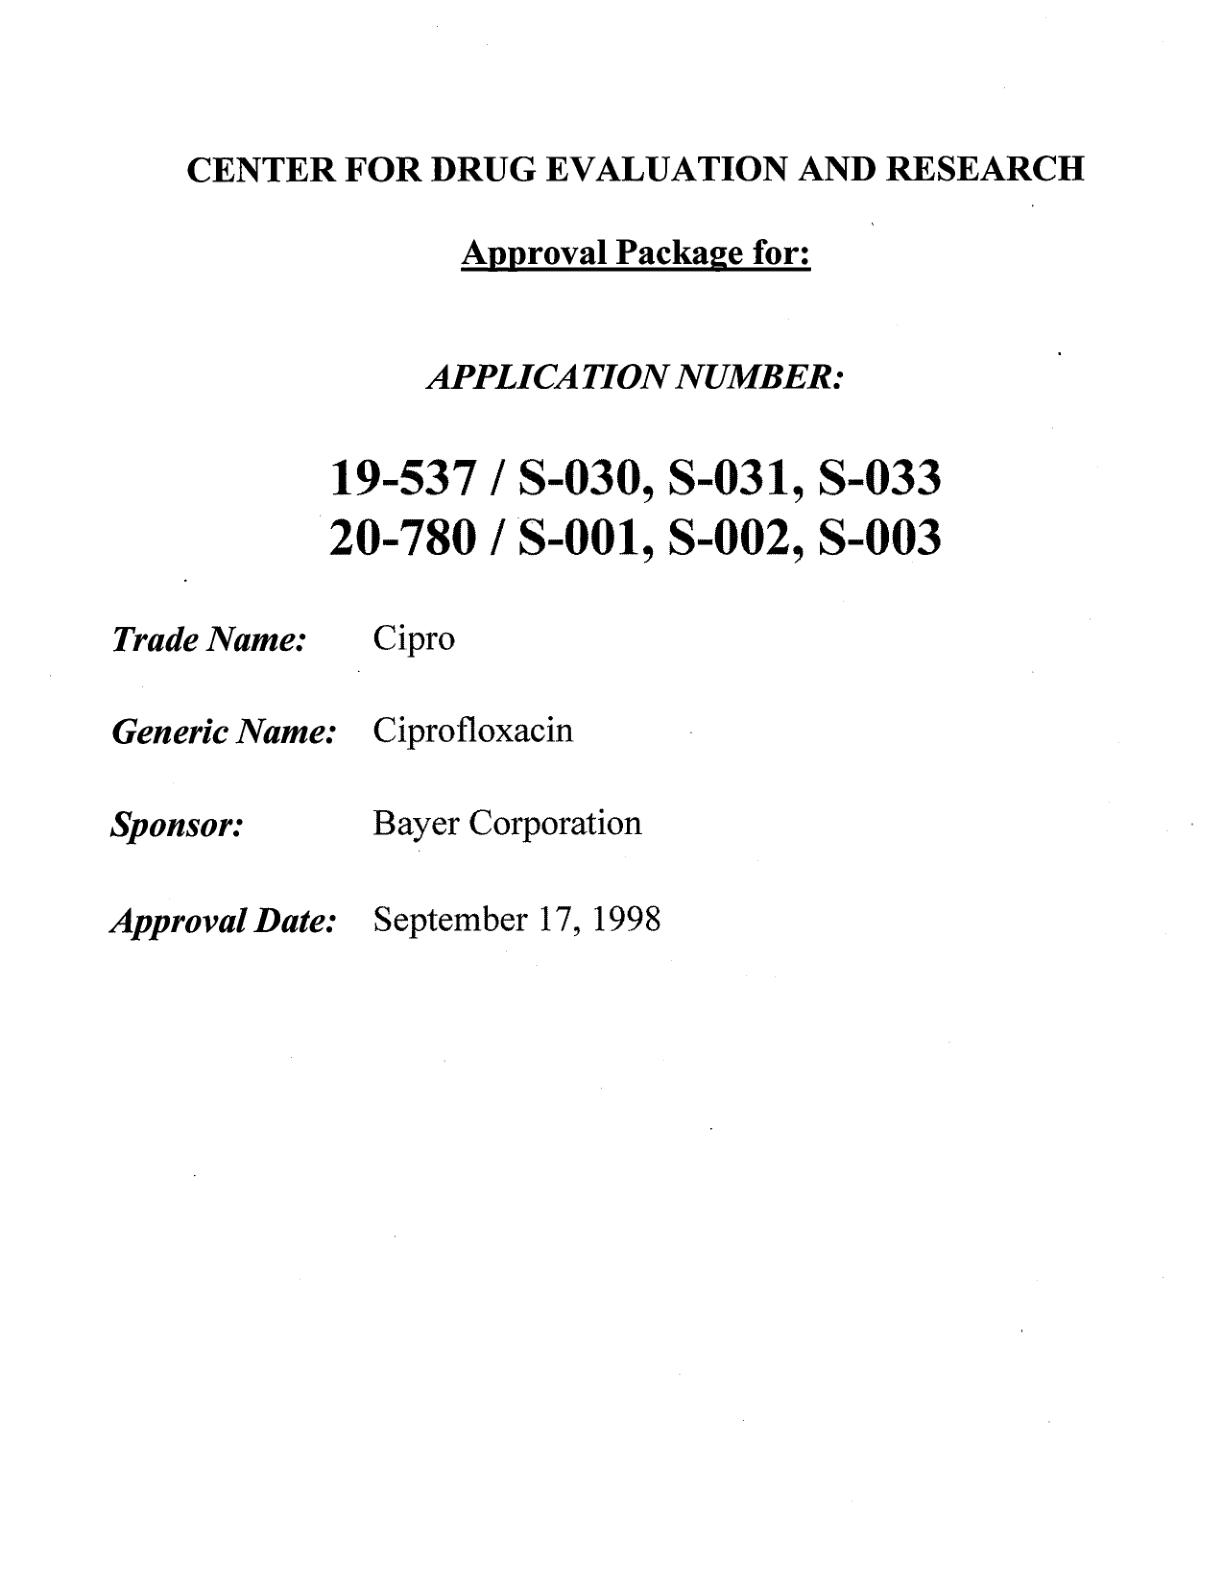nolines: (111, 615, 667, 944)
